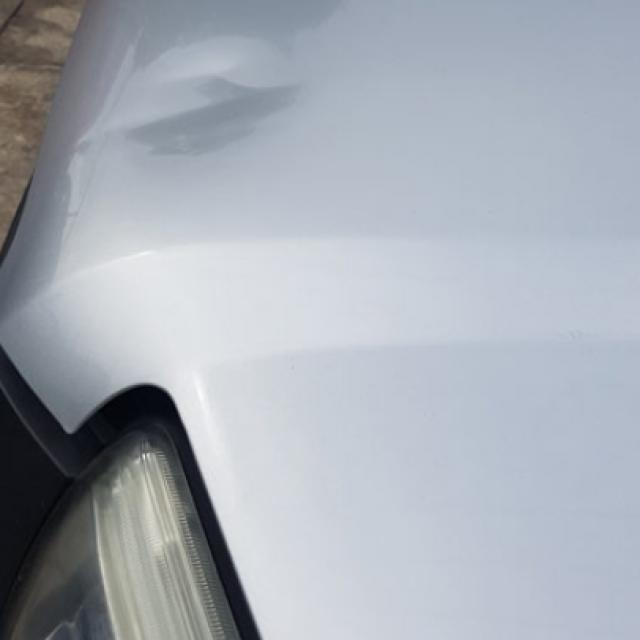dents: (122, 21, 326, 175)
